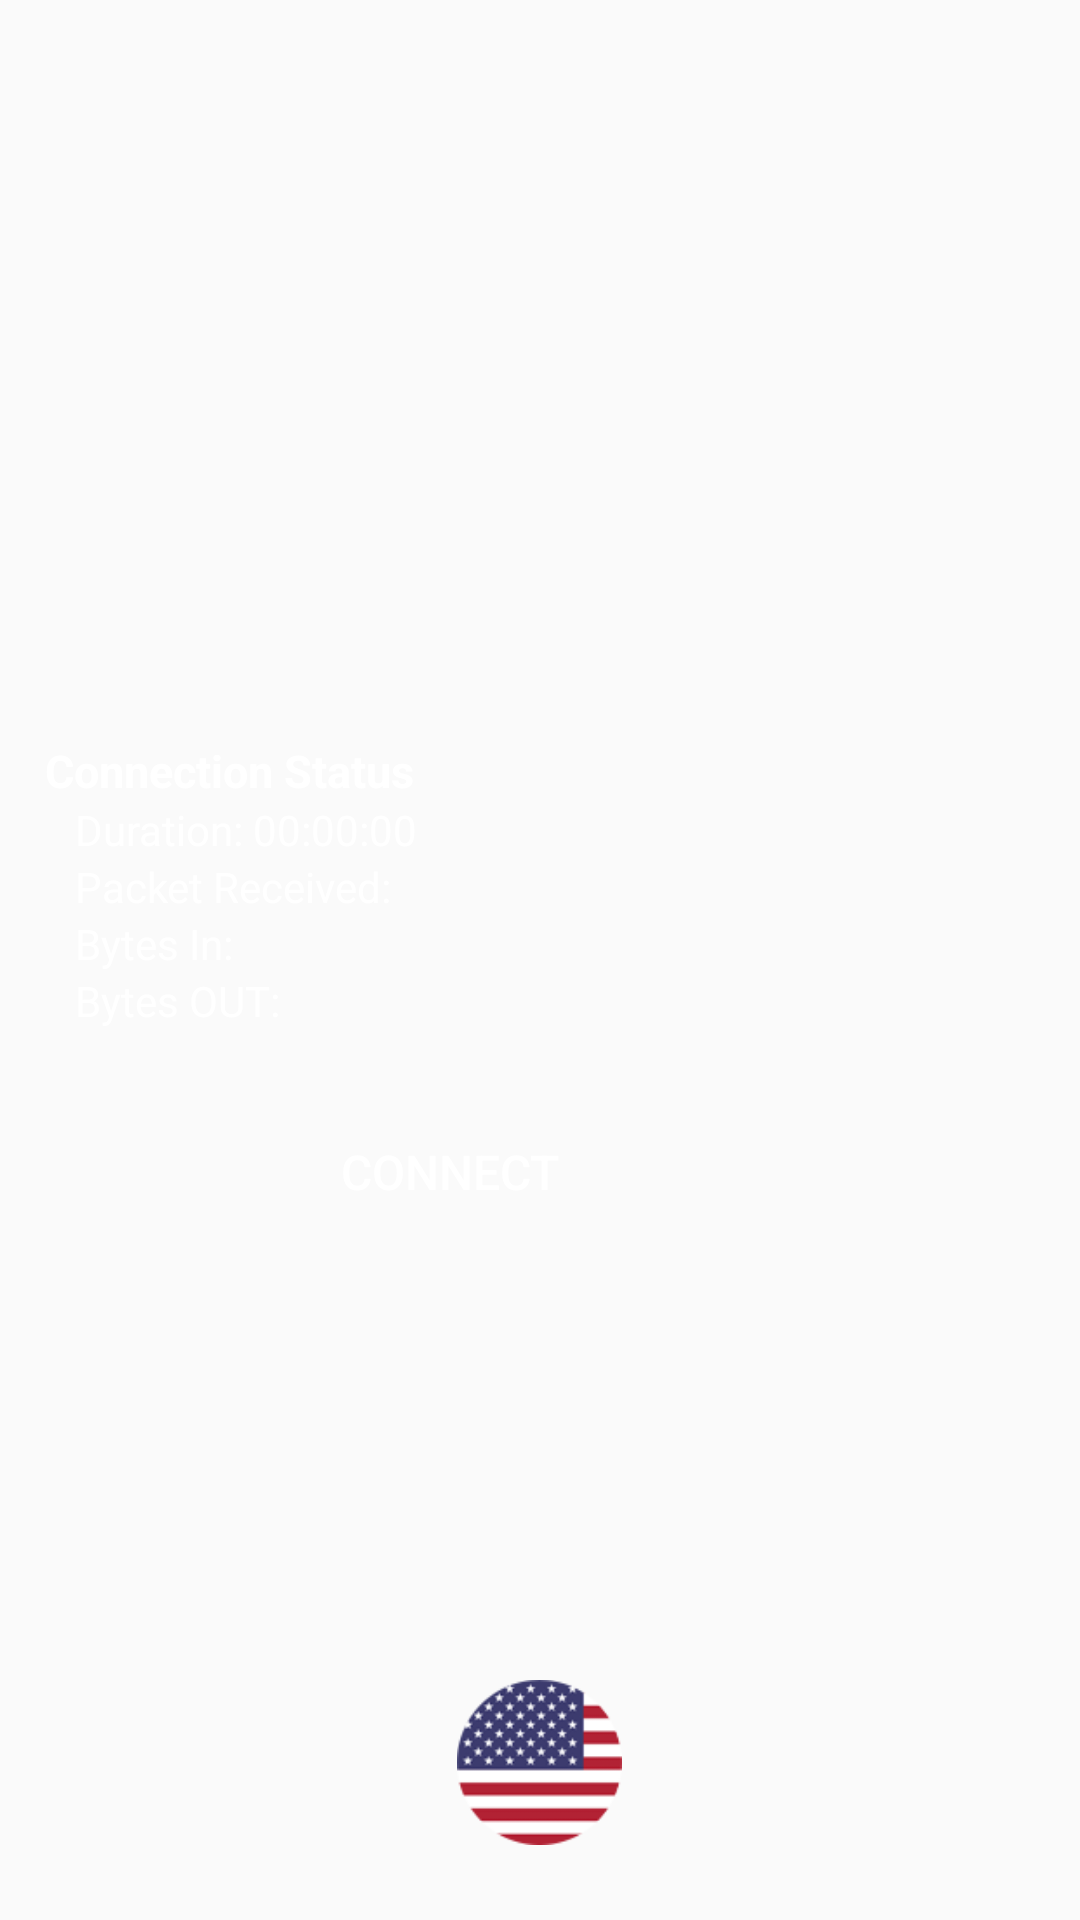

Locate icon controls on the screen. Image size 1080px x 1920px, boxes as [left=x1, top=y1, right=x2, bottom=y2].
usa flag: [left=457, top=1680, right=622, bottom=1845]
